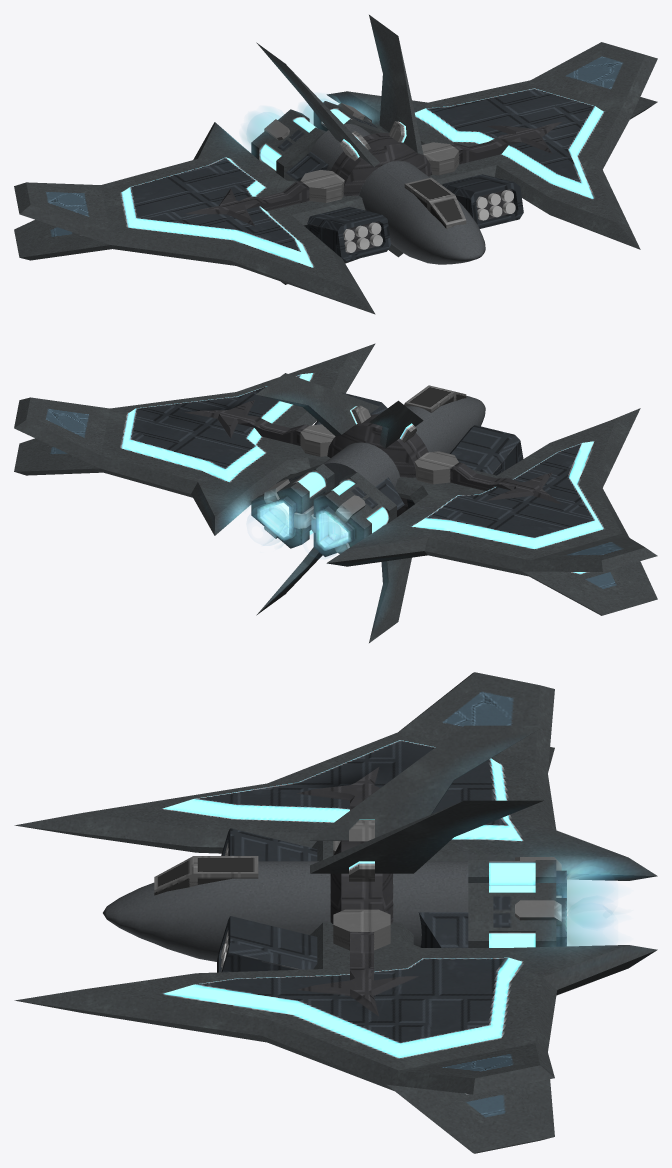
Rendered from scintillation.gltf.
The picture shows the model from 3 angles, top to bottom: view 1: azimuth 30°, elevation 25°; view 2: azimuth 150°, elevation 25°; view 3: azimuth 270°, elevation 25°; orthographic projection. The views are drawn at different scales.
Parts seen in each view (by area): view 1: base_glow, long_glow, inner_glow; view 2: base_glow, long_glow, inner_glow; view 3: base_glow, long_glow, inner_glow.
Boxes of the visible parts, bbox=[...] form: base_glow: bbox=[14, 15, 657, 314]; long_glow: bbox=[242, 94, 340, 152]; inner_glow: bbox=[248, 100, 336, 143]; base_glow: bbox=[14, 343, 657, 642]; long_glow: bbox=[258, 500, 346, 548]; inner_glow: bbox=[253, 504, 343, 555]; base_glow: bbox=[14, 672, 657, 1153]; long_glow: bbox=[567, 861, 616, 946]; inner_glow: bbox=[567, 866, 610, 945].
Bounding box in the file's own units: 8.66 × 2.87 × 5.59.
Materials: 3 (3 with a texture image).
